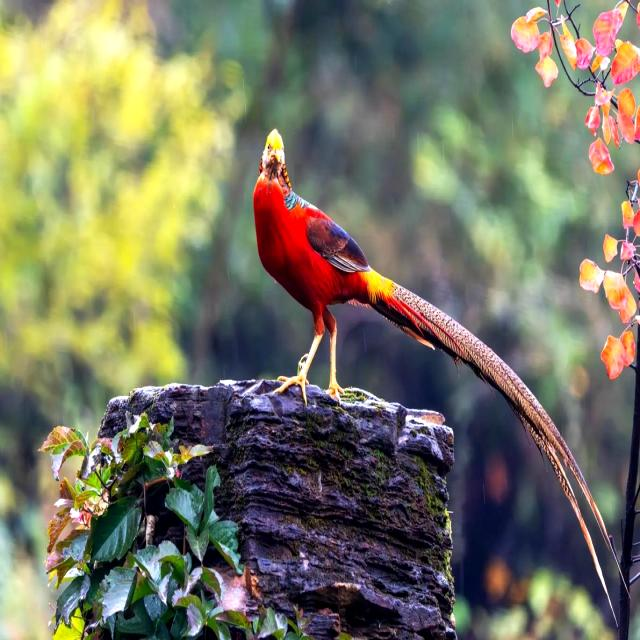Chrysolophus pictus feather: (367, 271, 631, 608)
